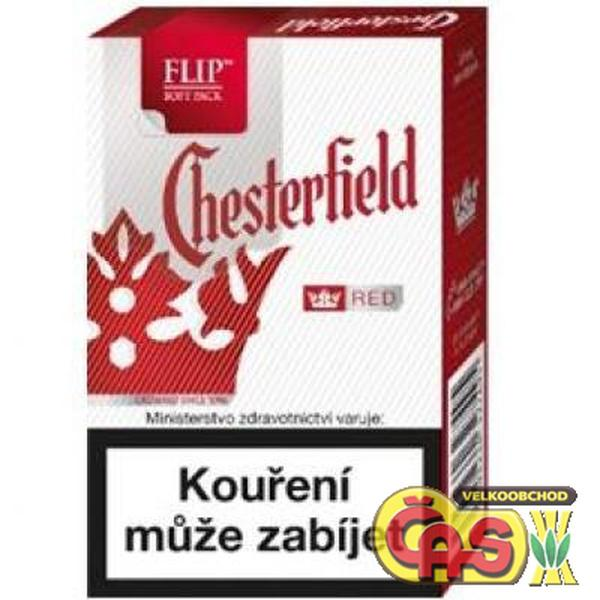chesterfield_red: (85, 41, 440, 591)
